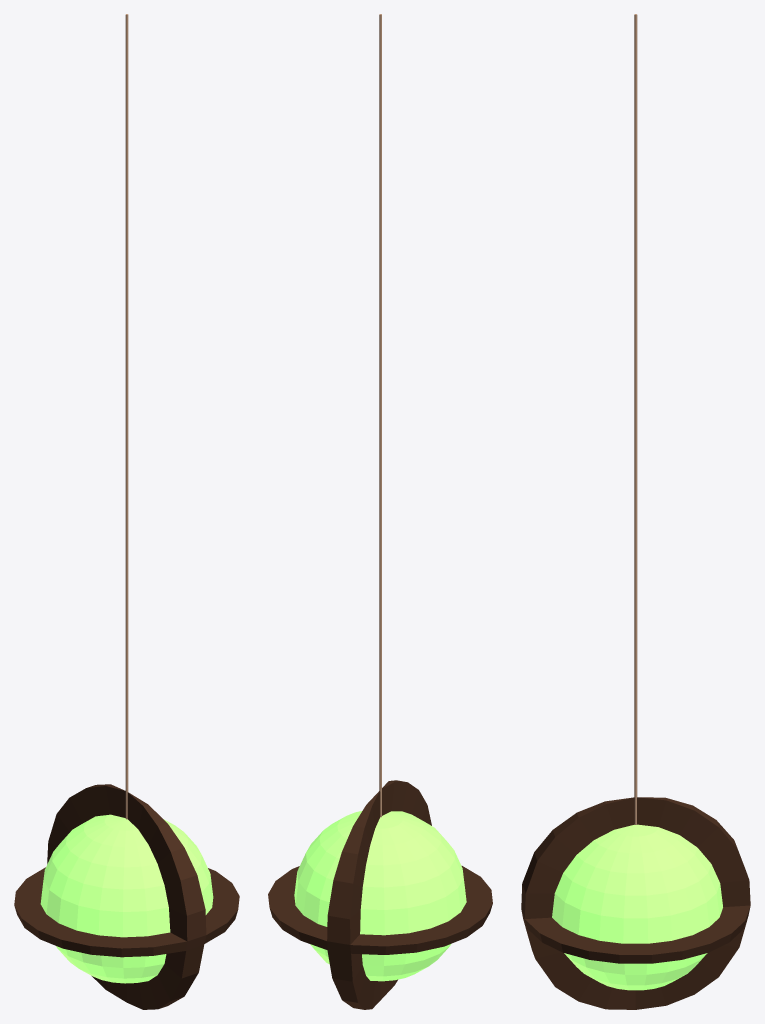
The model's file is Luce 2 Verde .fbx.
3 renders of one model, left to right at view 1: azimuth 30°, elevation 25°; view 2: azimuth 150°, elevation 25°; view 3: azimuth 270°, elevation 25°, orthographic.
Visible parts, largest first — view 1: Sphere.022; view 2: Sphere.022; view 3: Sphere.022.
Part boxes in pixels (x1,y1,x2,y2): Sphere.022: [14, 14, 239, 1009]; Sphere.022: [268, 14, 492, 1009]; Sphere.022: [521, 14, 750, 1009].
Bounding box in the file's own units: 49.96 × 243 × 50.75.
